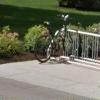Bicycle: (32, 15, 83, 64)
